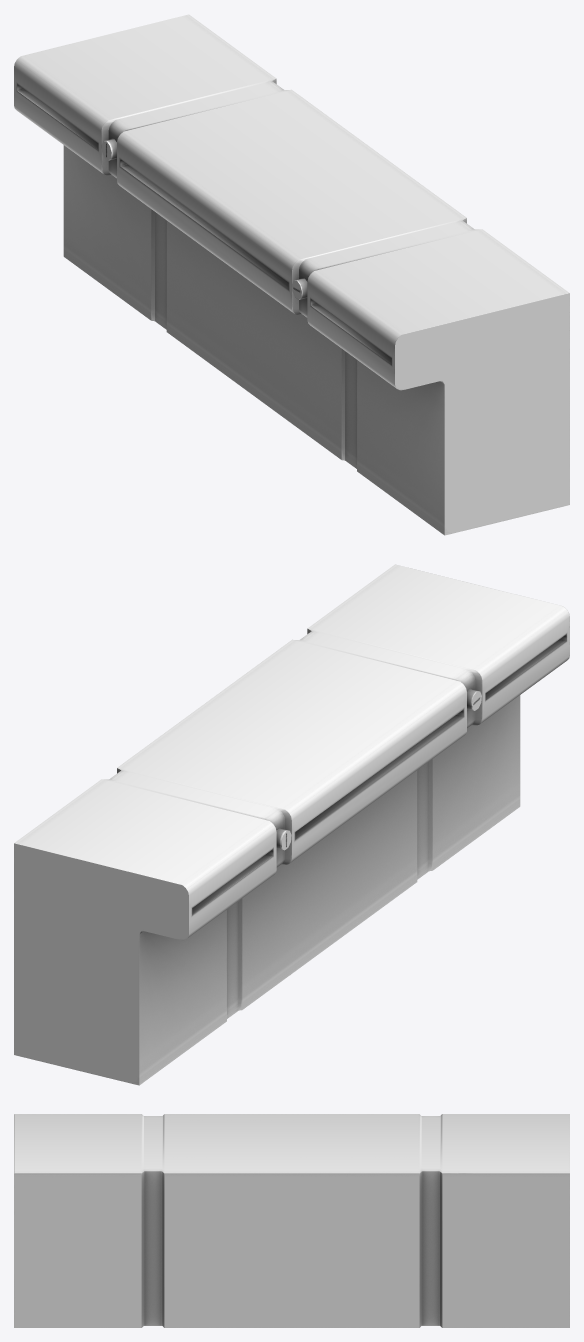
The picture shows the model from 3 angles, top to bottom: view 1: azimuth 30°, elevation 25°; view 2: azimuth 150°, elevation 25°; view 3: azimuth 270°, elevation 25°; orthographic projection. The views are drawn at different scales.
Visible parts, largest first — view 1: Table_PC_low; view 2: Table_PC_low; view 3: Table_PC_low.
Part boxes in pixels (box(x1,y1,x2,y2)): Table_PC_low: box(14, 14, 569, 535); Table_PC_low: box(14, 564, 569, 1085); Table_PC_low: box(14, 1114, 569, 1327).
Size of the model in its own units: 1053 by 283 by 323.
